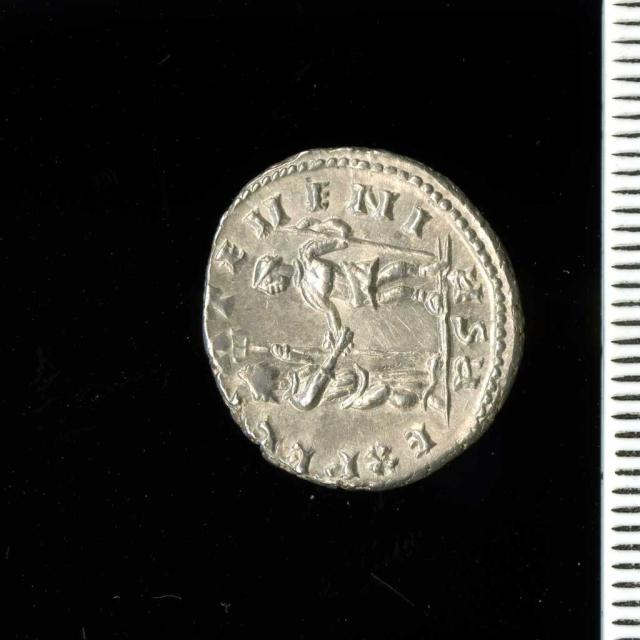Coin: (198, 145, 525, 491)
